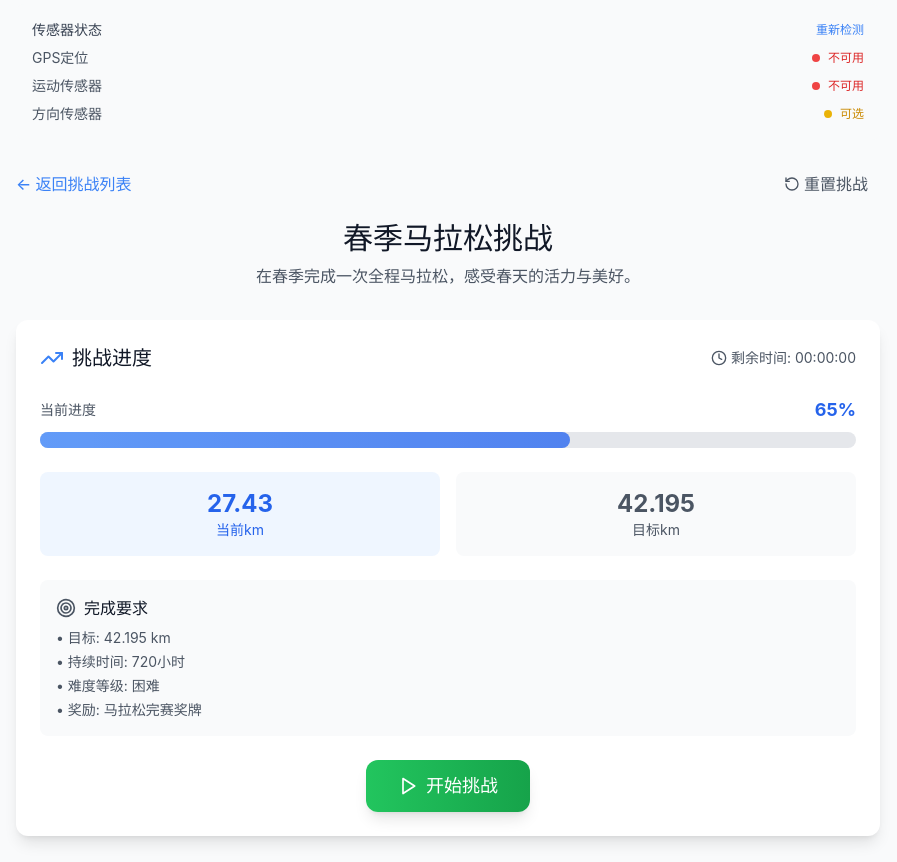
挑战竞赛流程测试 › ChallengeProgress 页面测试 › 应该能够暂停和继续挑战
Expected: the text "开始挑战" is shown, [426,772,498,800]
Click the button "开始挑战" at x=448, y=786, box [366,760,530,812]
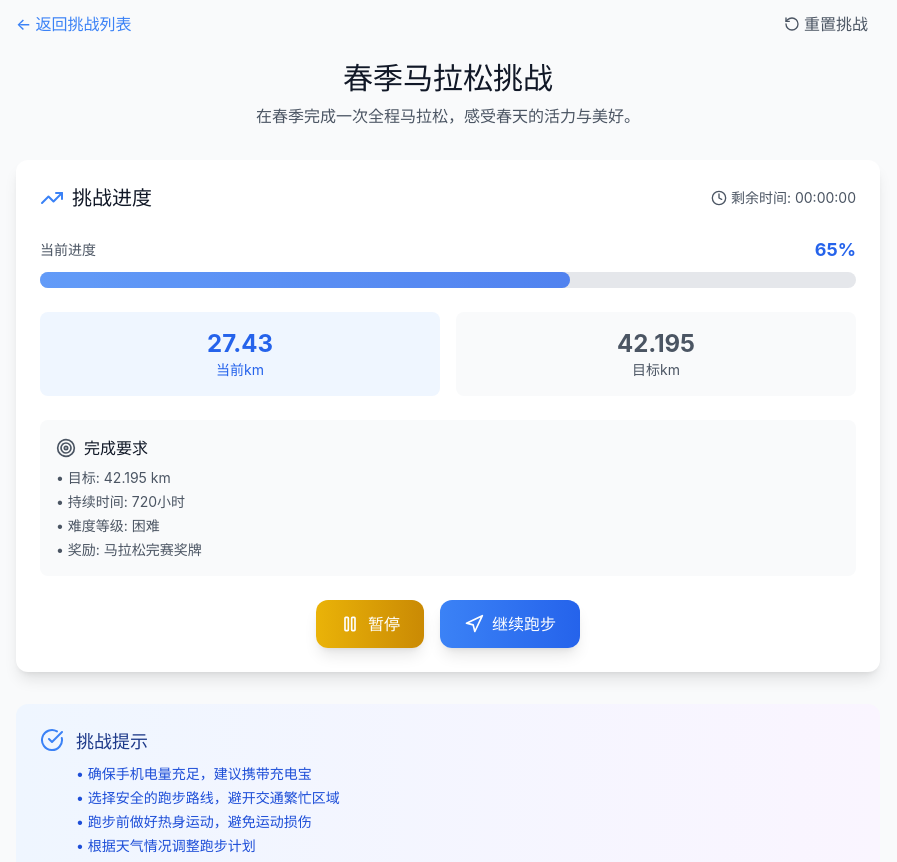
Now the text "暂停" is shown, box [368,612,400,636]
Click the button "暂停" at x=370, y=624, box [316,600,424,648]
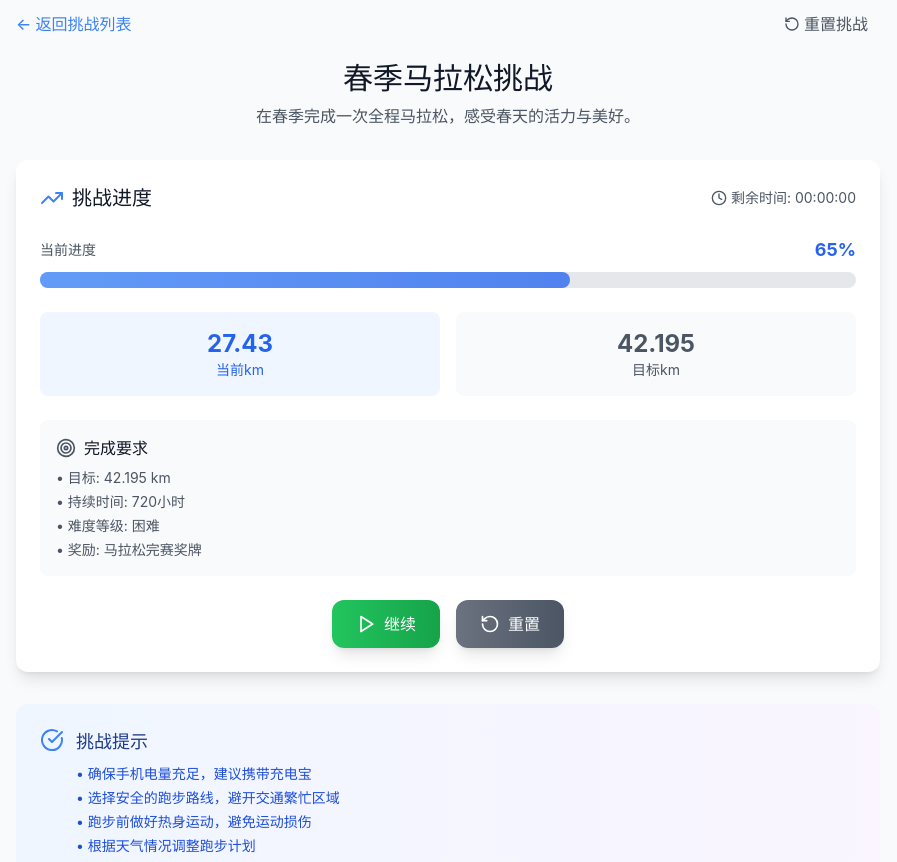
Now the text "继续" is shown, box [384,612,416,636]
Click the button "继续" at x=386, y=624, box [332,600,440,648]
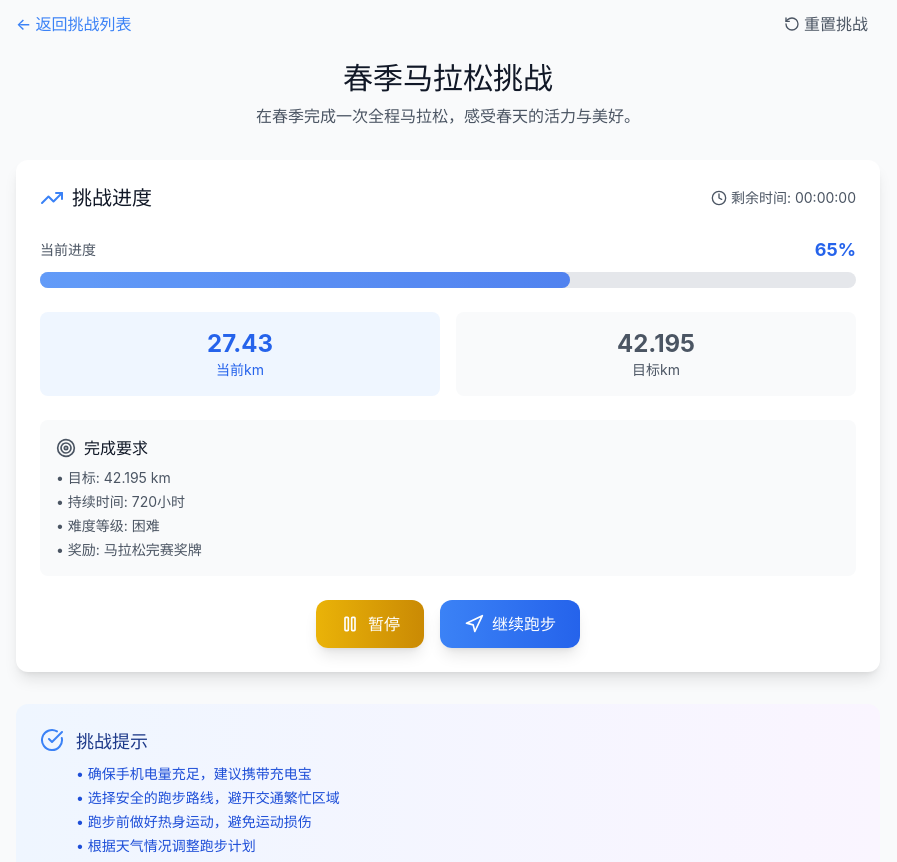
Now the text "暂停" is shown, box [368,612,400,636]
